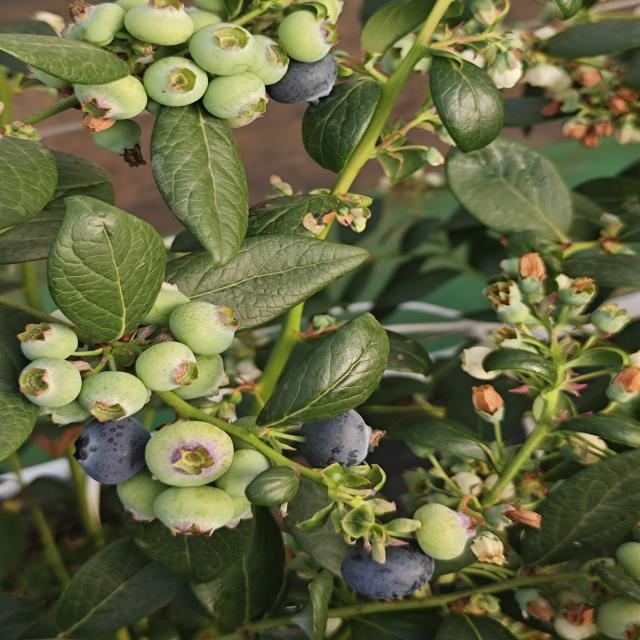ripe: (342, 546, 437, 611), (62, 416, 148, 481), (318, 412, 384, 469), (280, 64, 340, 106)
